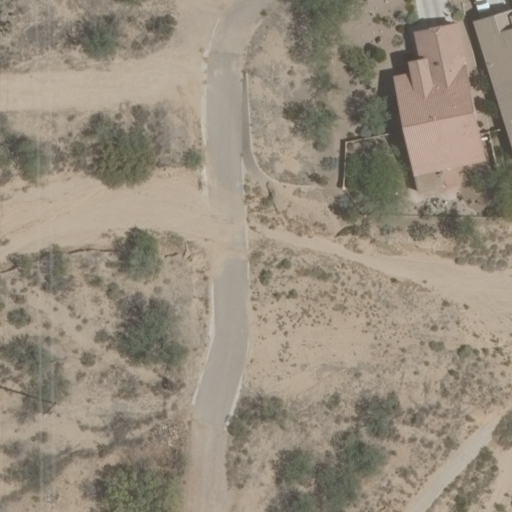DT: (37, 393, 60, 419)
